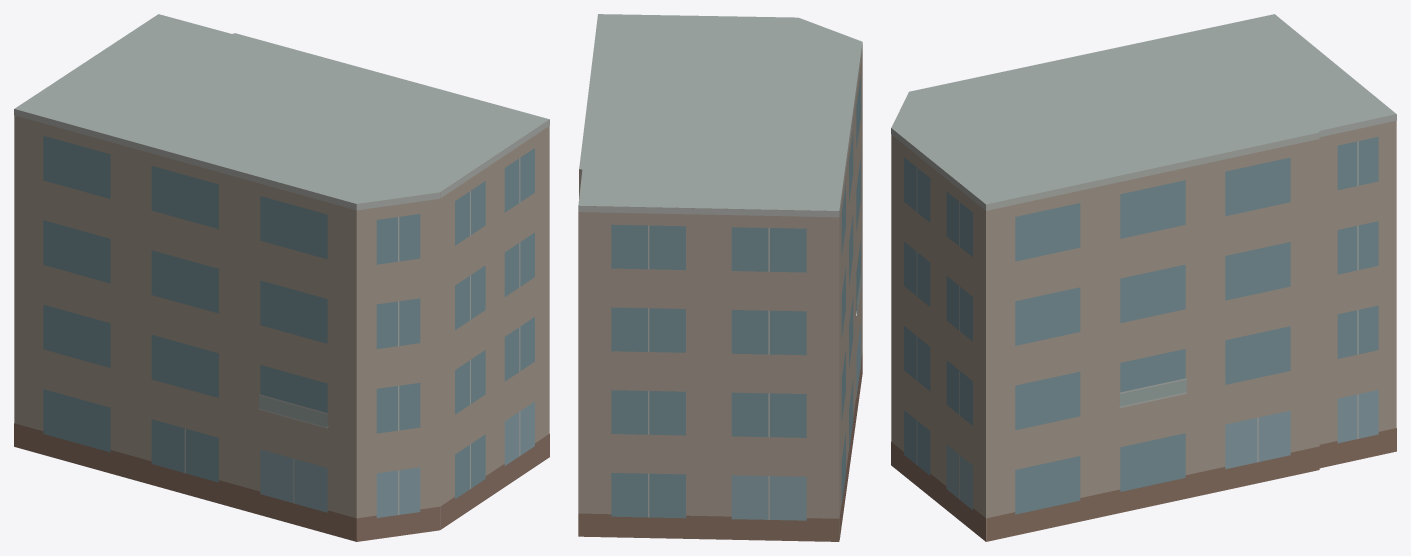
Rendered from survey-upis-32832264.glb.
3 renders of one model, left to right at view 1: azimuth 30°, elevation 25°; view 2: azimuth 150°, elevation 25°; view 3: azimuth 270°, elevation 25°, orthographic. The views are drawn at different scales.
Visible parts, largest first — view 1: survey-upis-32832264.tmp; view 2: survey-upis-32832264.tmp; view 3: survey-upis-32832264.tmp.
Part boxes in pixels (x1=…): survey-upis-32832264.tmp: x1=14, y1=14, x2=549, y2=541; survey-upis-32832264.tmp: x1=578, y1=14, x2=862, y2=541; survey-upis-32832264.tmp: x1=891, y1=14, x2=1396, y2=541.
Bounding box in the file's own units: 15.57 × 12.85 × 17.46.
